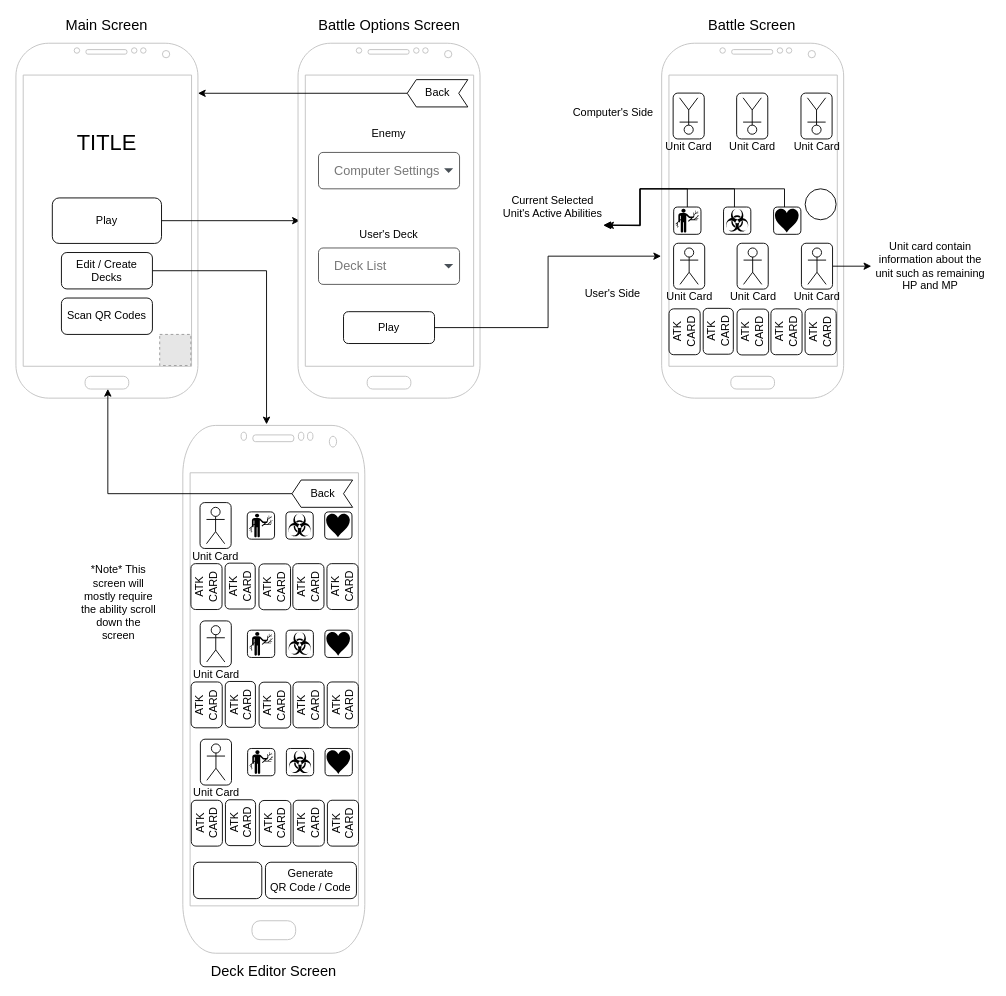
The diagram is 1006 pixels wide and 996 high, and some of its shapes have lost their labels. Grey dashed boxes stand in for pictures. Each missing label, with the box of its shape:
Attack: (804, 188, 836, 220)
Save Deck: (193, 861, 262, 899)
